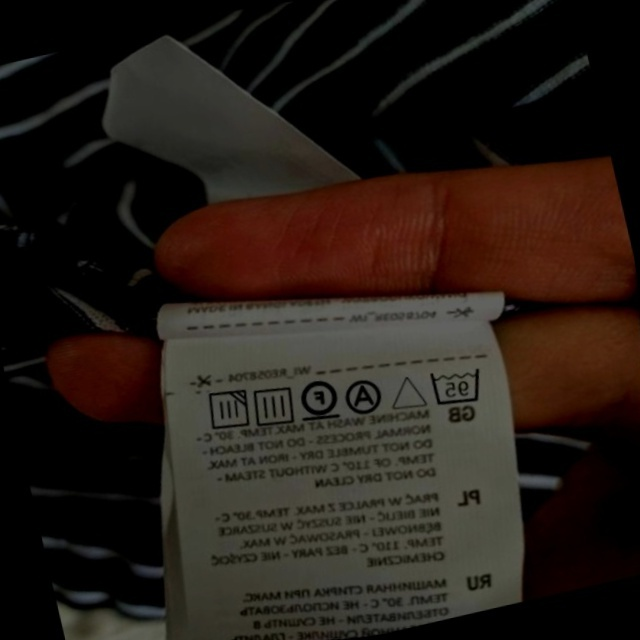95C: (420, 355, 491, 417)
bleach: (383, 363, 434, 419)
drip_dry: (243, 375, 304, 435)
drip_dry_in_shade: (195, 379, 258, 441)
dry_clean: (338, 370, 391, 422)
dry_clean_petrol_only: (290, 368, 347, 429)
